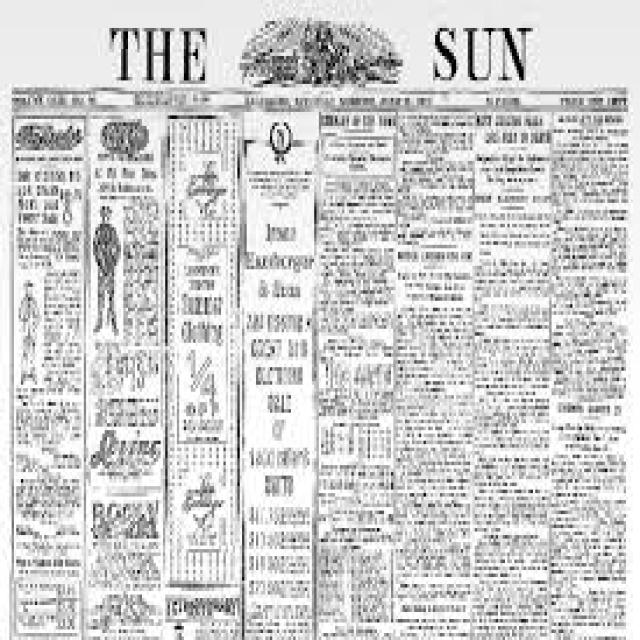paper: (8, 10, 640, 640)
